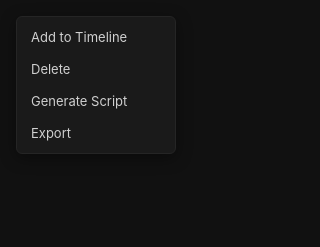
Test: ClipContextMenu › "Generate Script" click shows a textarea prompt
Click the list item "Generate Script" at (79, 101), box [31,93,127,109]
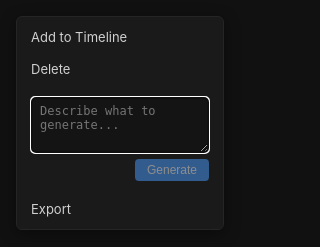
Result: the text box is shown at [31,97,209,153]
